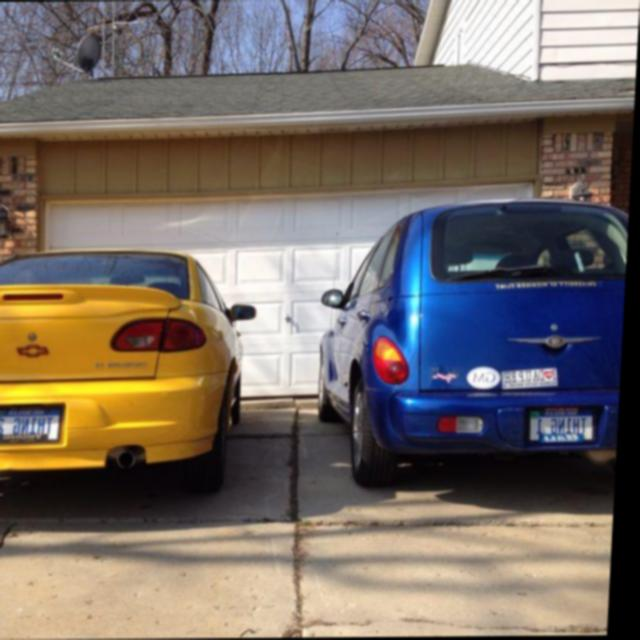License_Plate: (523, 400, 605, 449), (0, 400, 69, 452)
